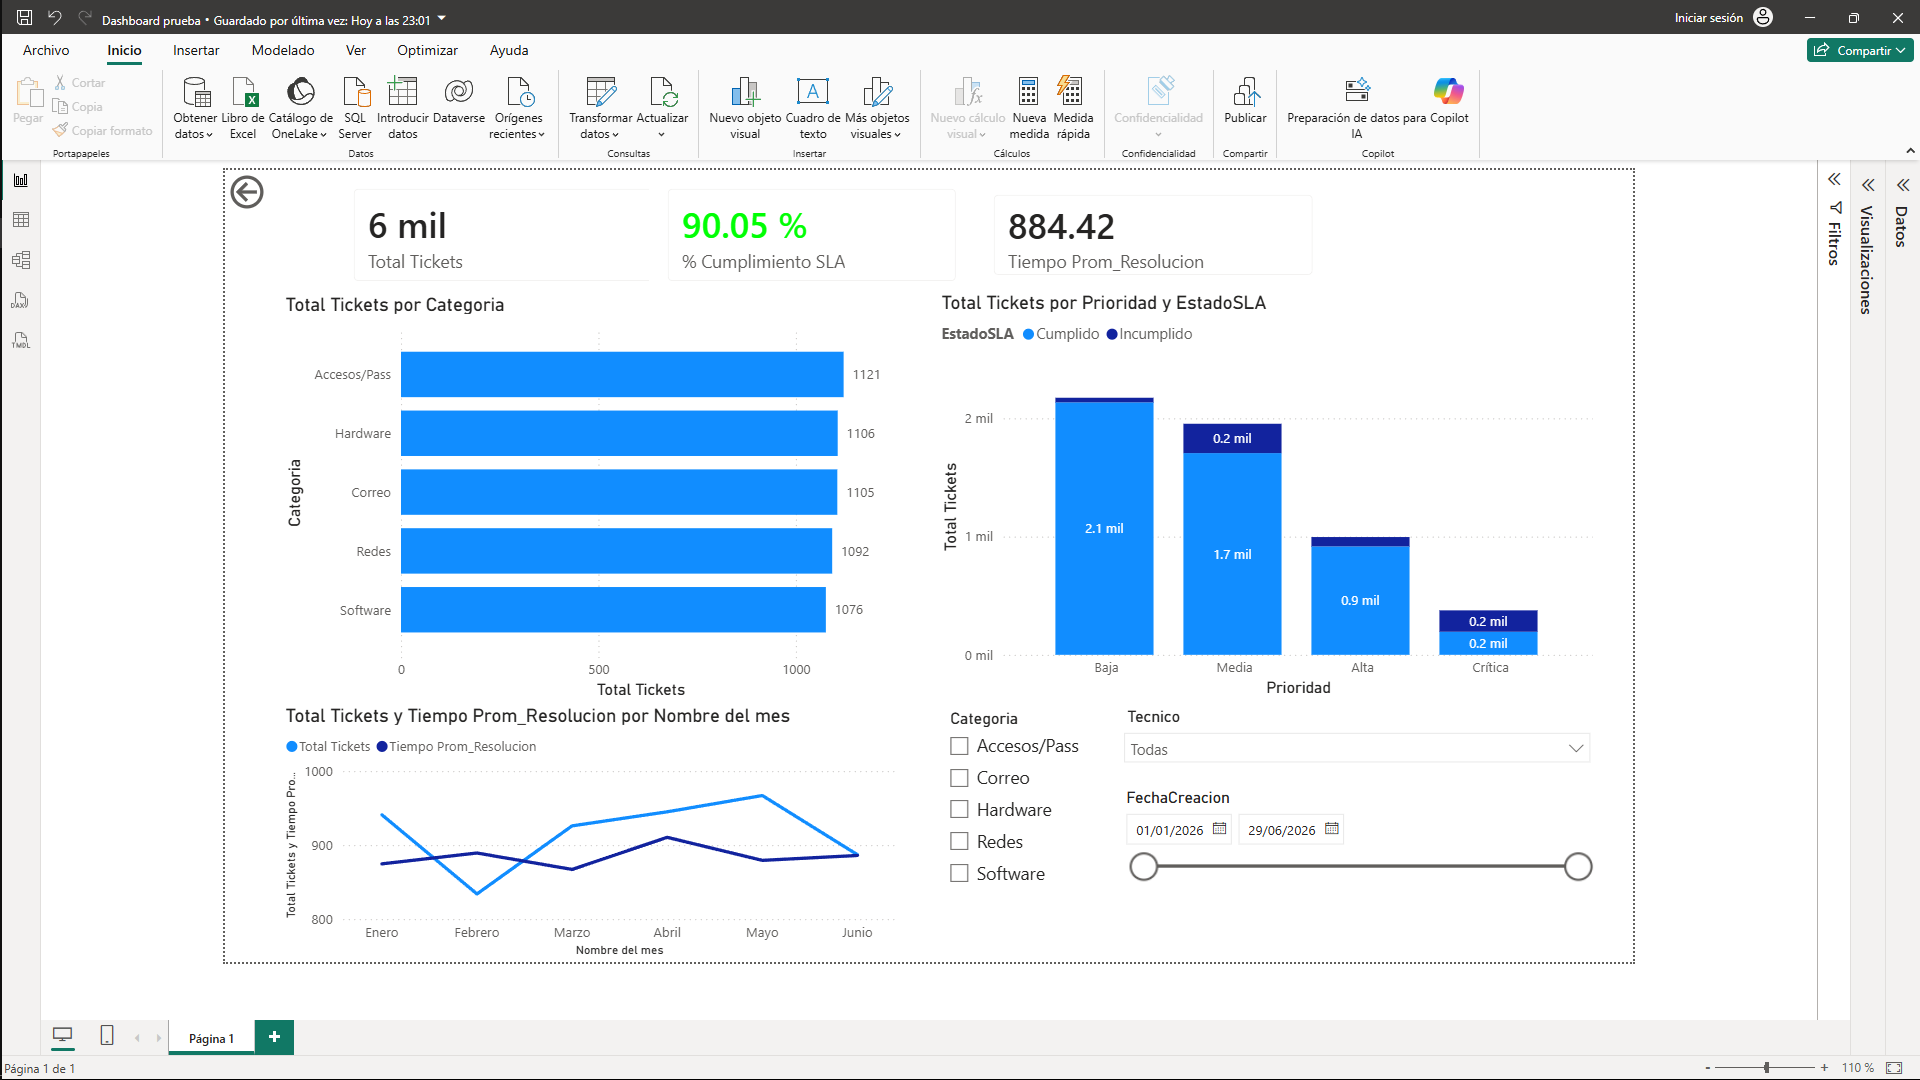

What the dashboard file says about the page in this screenshot:
{"tool":"powerbi","page":{"name":"Página 1","canvas":[1280,720],"ordinal":0},"visuals":[{"type":"cardVisual","fields":{"Data":["servicedesk_tickets.Total Tickets"]},"box":[50.1,9.4,332.8,117.9],"z":0},{"type":"cardVisual","fields":{"Data":["servicedesk_tickets.% Cumplimiento SLA"]},"box":[332.4,0,296.7,118.1],"z":1000},{"type":"cardVisual","fields":{"Data":["servicedesk_tickets.Tiempo Prom_Resolucion"]},"box":[629.1,2.7,324.5,107.3],"z":2000},{"type":"actionButton","box":[0,0,100,40],"z":3000},{"type":"clusteredBarChart","fields":{"Category":["servicedesk_tickets.Categoria"],"Y":["servicedesk_tickets.Total Tickets"]},"box":[50.1,111.6,564.4,373.5],"z":4000},{"type":"columnChart","fields":{"Category":["servicedesk_tickets.Prioridad"],"Series":["servicedesk_tickets.EstadoSLA"],"Y":["servicedesk_tickets.Total Tickets"]},"box":[646,110.1,602.3,374.1],"z":5000},{"type":"lineChart","fields":{"Y":["servicedesk_tickets.Total Tickets","servicedesk_tickets.Tiempo Prom_Resolucion"],"Category":["Calendario.Nombre del mes"]},"box":[50,485.5,564.5,234.5],"z":6000},{"type":"slicer","fields":{"Values":["servicedesk_tickets.Categoria"]},"box":[646.4,485.5,160,234.5],"z":7000},{"type":"slicer","fields":{"Values":["servicedesk_tickets.Tecnico"]},"box":[807.3,483.6,443.6,64.5],"z":8000},{"type":"slicer","fields":{"Values":["servicedesk_tickets.FechaCreacion"]},"box":[806.4,557.3,444.5,162.7],"z":9000}]}

Visuals, with their boxes on the page's 1280x720 design canvas (x1, y1, x2, y2). These are canvas units, not pixel positions in the 1920x1080 screenshot, which may show the page scaled, cropped or inside an application window:
cardVisual - servicedesk_tickets.Total Tickets: pyautogui.locateOnScreen(50, 9, 383, 127)
cardVisual - servicedesk_tickets.% Cumplimiento SLA: pyautogui.locateOnScreen(332, 0, 629, 118)
cardVisual - servicedesk_tickets.Tiempo Prom_Resolucion: pyautogui.locateOnScreen(629, 3, 954, 110)
actionButton: pyautogui.locateOnScreen(0, 0, 100, 40)
clusteredBarChart - servicedesk_tickets.Categoria x servicedesk_tickets.Total Tickets: pyautogui.locateOnScreen(50, 112, 614, 485)
columnChart - servicedesk_tickets.Prioridad x servicedesk_tickets.EstadoSLA: pyautogui.locateOnScreen(646, 110, 1248, 484)
lineChart - servicedesk_tickets.Total Tickets x servicedesk_tickets.Tiempo Prom_Resolucion: pyautogui.locateOnScreen(50, 486, 614, 720)
slicer - servicedesk_tickets.Categoria: pyautogui.locateOnScreen(646, 486, 806, 720)
slicer - servicedesk_tickets.Tecnico: pyautogui.locateOnScreen(807, 484, 1251, 548)
slicer - servicedesk_tickets.FechaCreacion: pyautogui.locateOnScreen(806, 557, 1251, 720)
